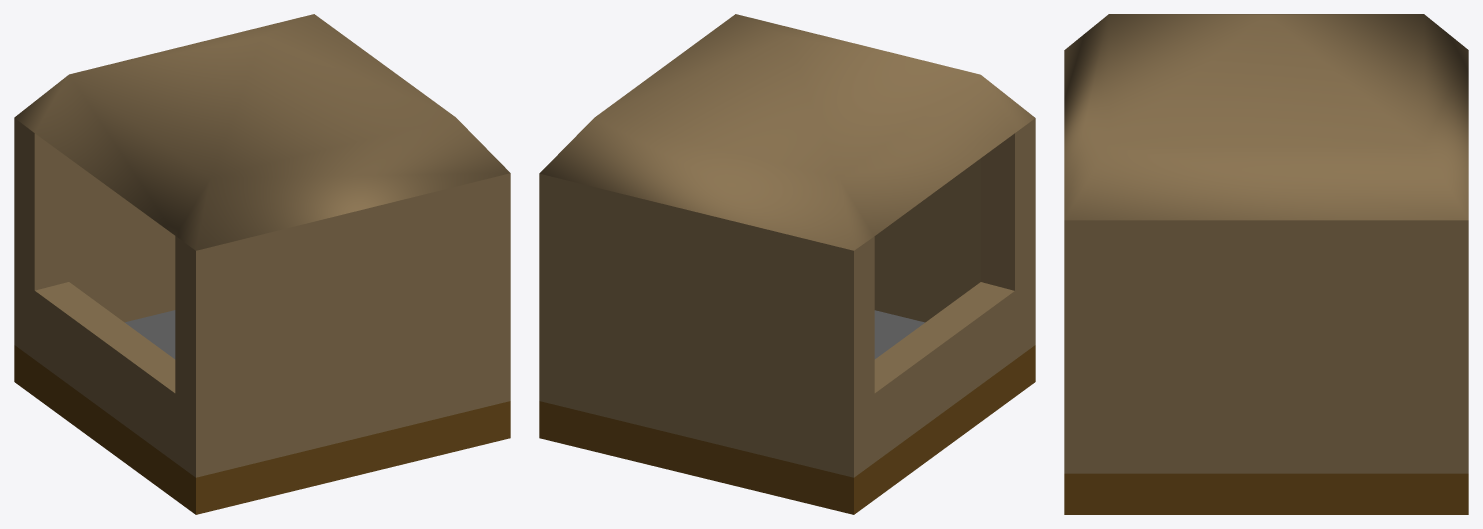
Rendered from BallThrow.fbx.
3 renders of one model, left to right at view 1: azimuth 30°, elevation 25°; view 2: azimuth 150°, elevation 25°; view 3: azimuth 270°, elevation 25°, orthographic. The views are drawn at different scales.
Visible parts, largest first — view 1: Cube; view 2: Cube; view 3: Cube.
Part boxes in pixels (x1,y1,x2,y2): Cube: (14, 14, 510, 514); Cube: (539, 14, 1035, 514); Cube: (1064, 14, 1468, 514).
Size of the model in its own units: 200 by 226 by 200.
